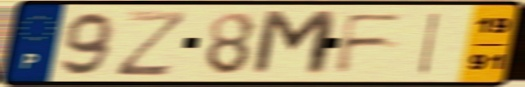8: (203, 10, 259, 77)
9: (60, 10, 117, 77)
F: (332, 11, 409, 76)
I: (415, 10, 445, 77)
M: (248, 8, 342, 79)
Z: (112, 8, 192, 78)
